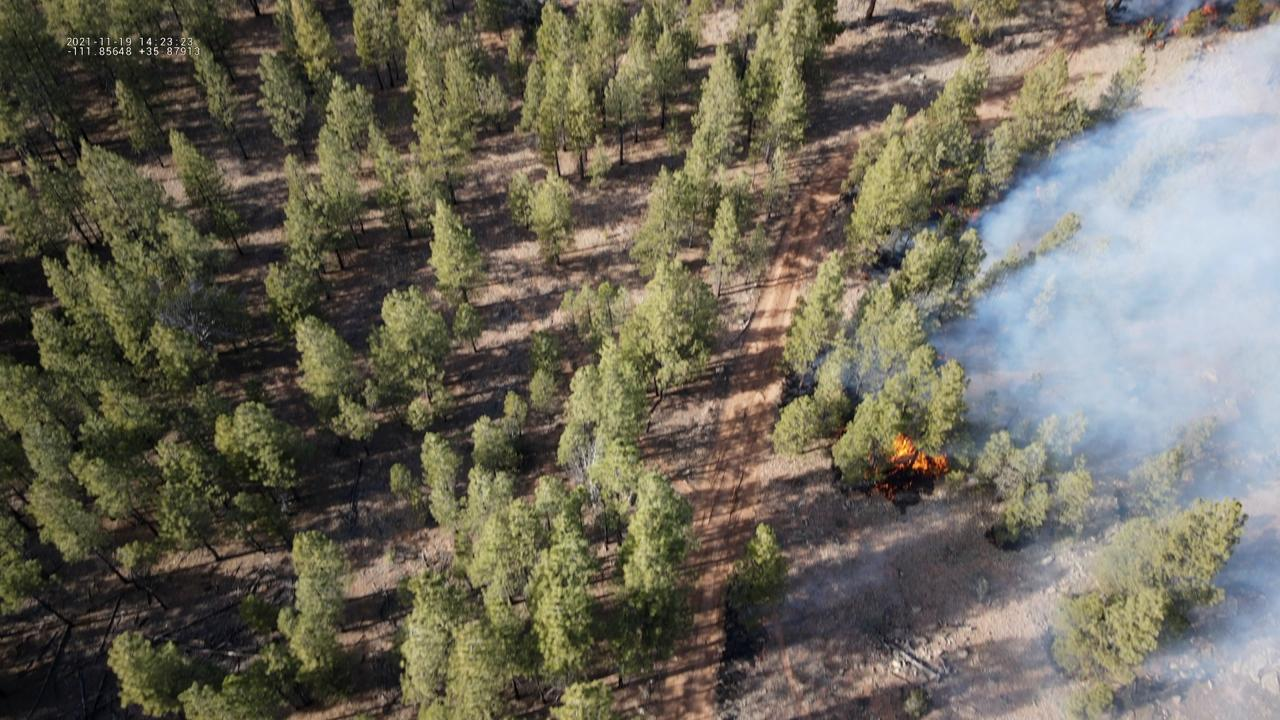fire: (860, 429, 951, 504), (1165, 0, 1220, 36), (968, 206, 979, 224), (1147, 28, 1153, 39)
smoke: (790, 20, 1280, 720), (1096, 0, 1240, 42)
